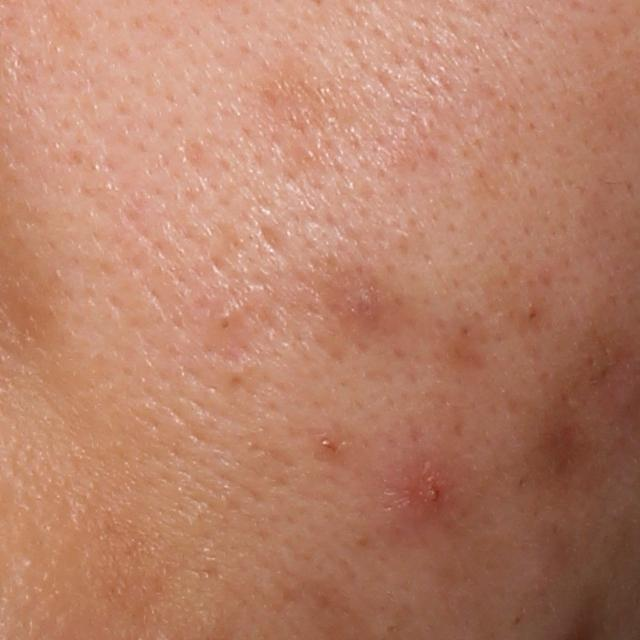atrophic_scar: (551, 428, 603, 487), (254, 221, 293, 260)
